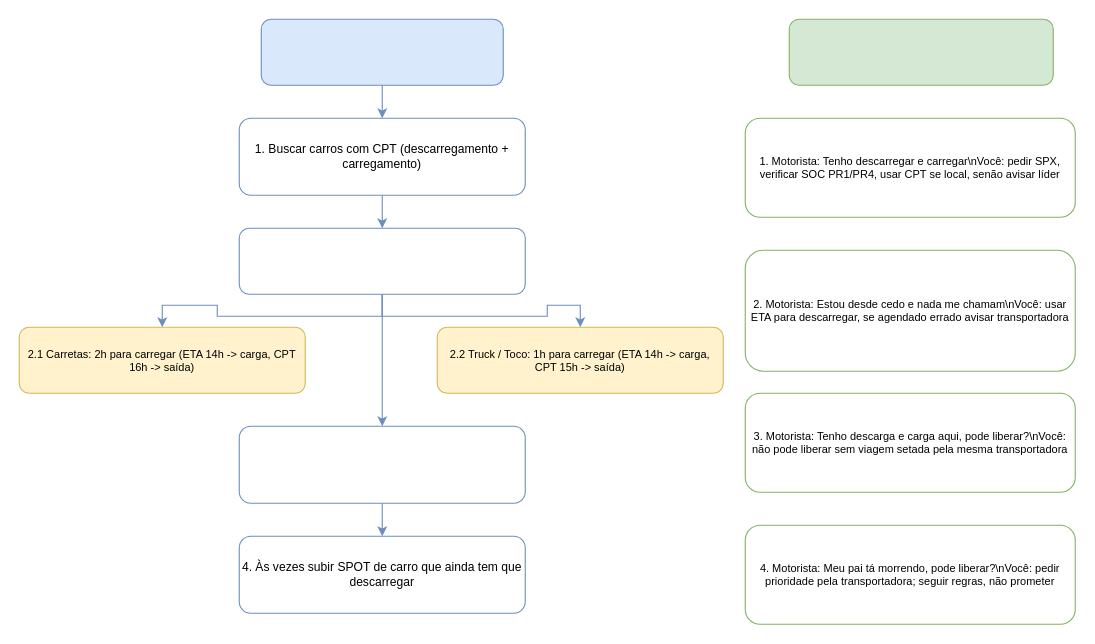
This 1095x644 diagram has some shape labels left out. Each missing label, with the centre of its shape:
2. Buscar carros de carregamento (horário fixo): the point at 381,260
3. Procurar carros mais atrasados no bolsão\nSe não encontrar, acionar líder: the point at 381,464
Início do turno: the point at 381,51
Resposta programada: the point at 920,51
